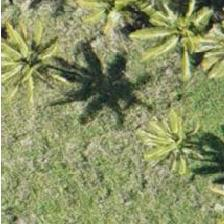Kelapa_Sawit: (126, 106, 216, 196)
